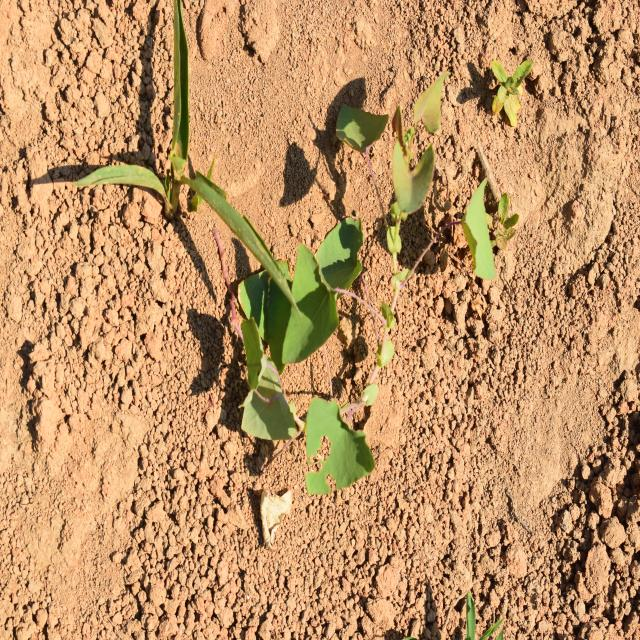Asiatic_Smartweed: (218, 208, 402, 501), (327, 75, 491, 274)
